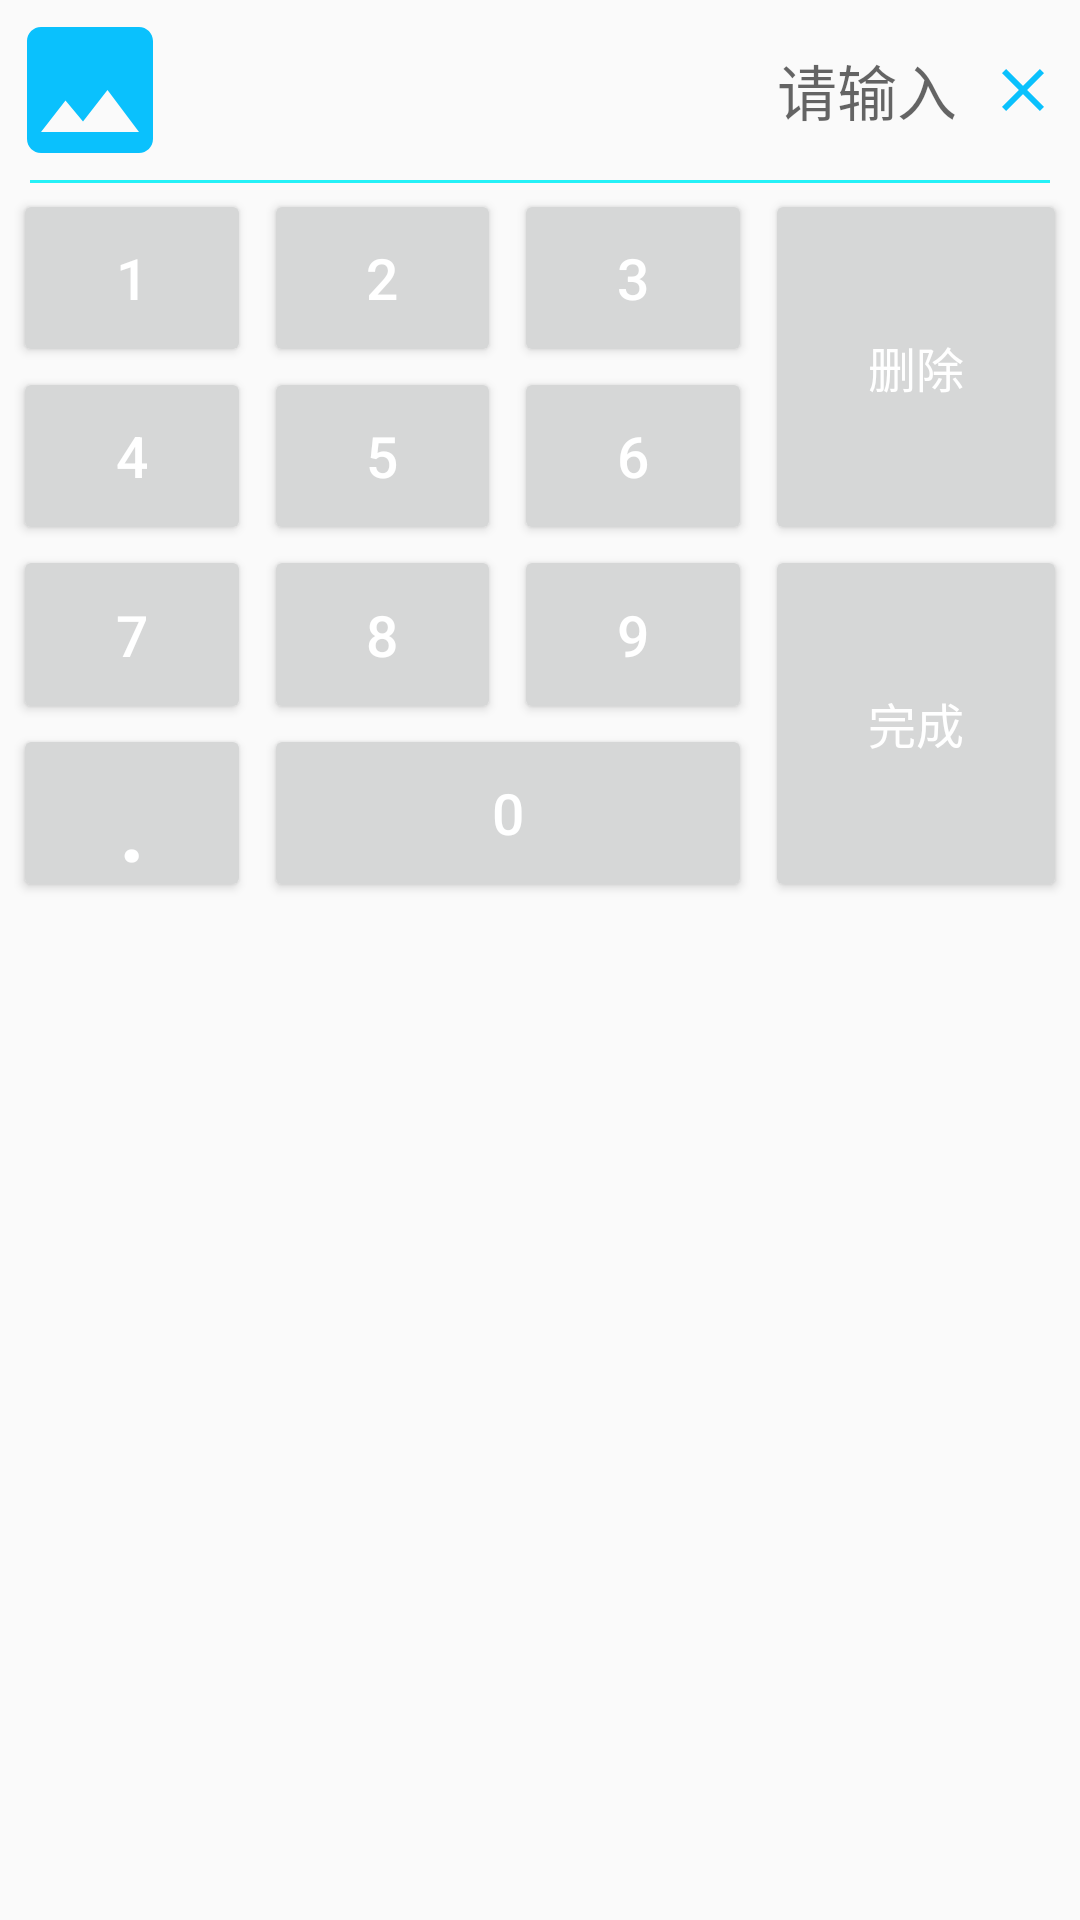

Screen size 1080px×1920px. Icon name, then its box in pixels as (x1, y1, x2, y2):
clear: (1002, 69, 1044, 111)
